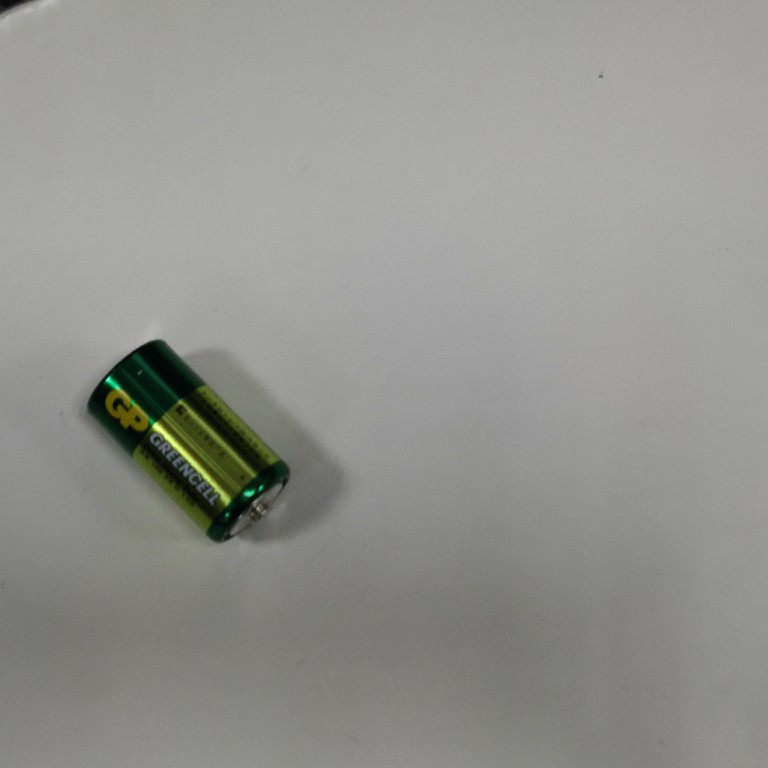charge: (84, 335, 294, 548)
